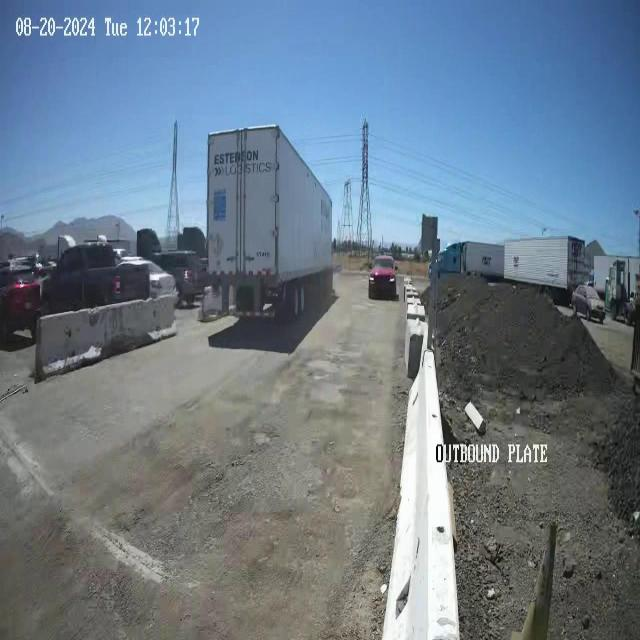TRUCK_CONTAINER: (205, 123, 333, 321)
